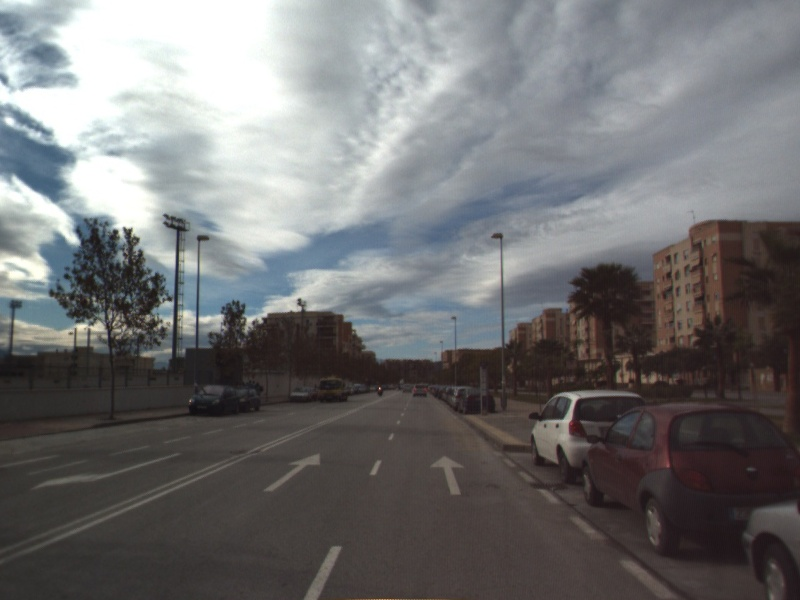STRAIGHT: (261, 452, 322, 493), (428, 454, 466, 497)
